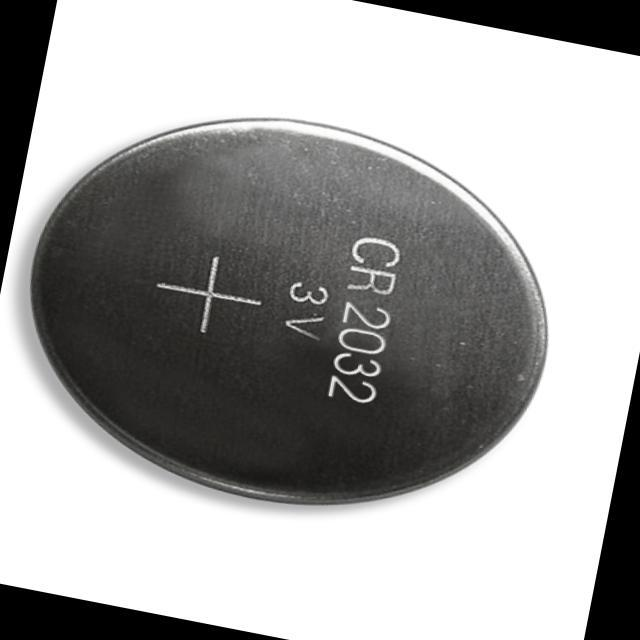COIN: (0, 72, 584, 549)
